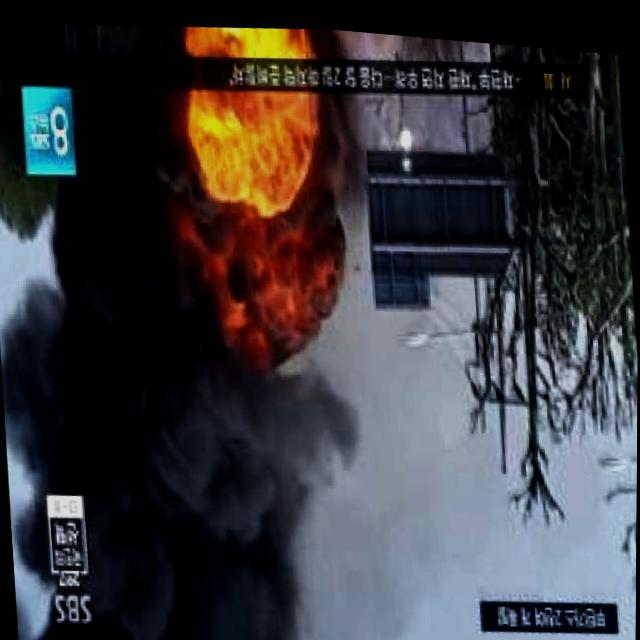Fire: (188, 68, 354, 363), (178, 12, 317, 56)
Smoke: (74, 323, 377, 640), (42, 73, 173, 348)
